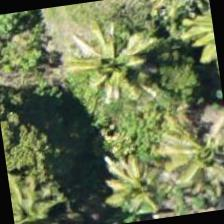Kelapa_Sawit: (60, 13, 162, 116), (95, 129, 197, 223), (150, 106, 223, 207), (6, 154, 77, 223)
